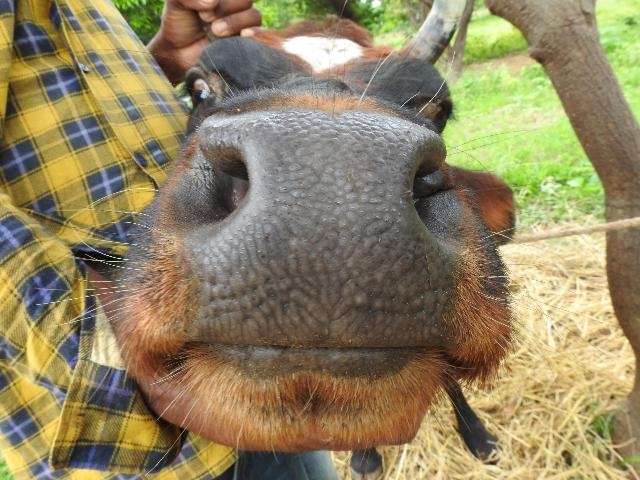Muzzle: (230, 119, 416, 343)
